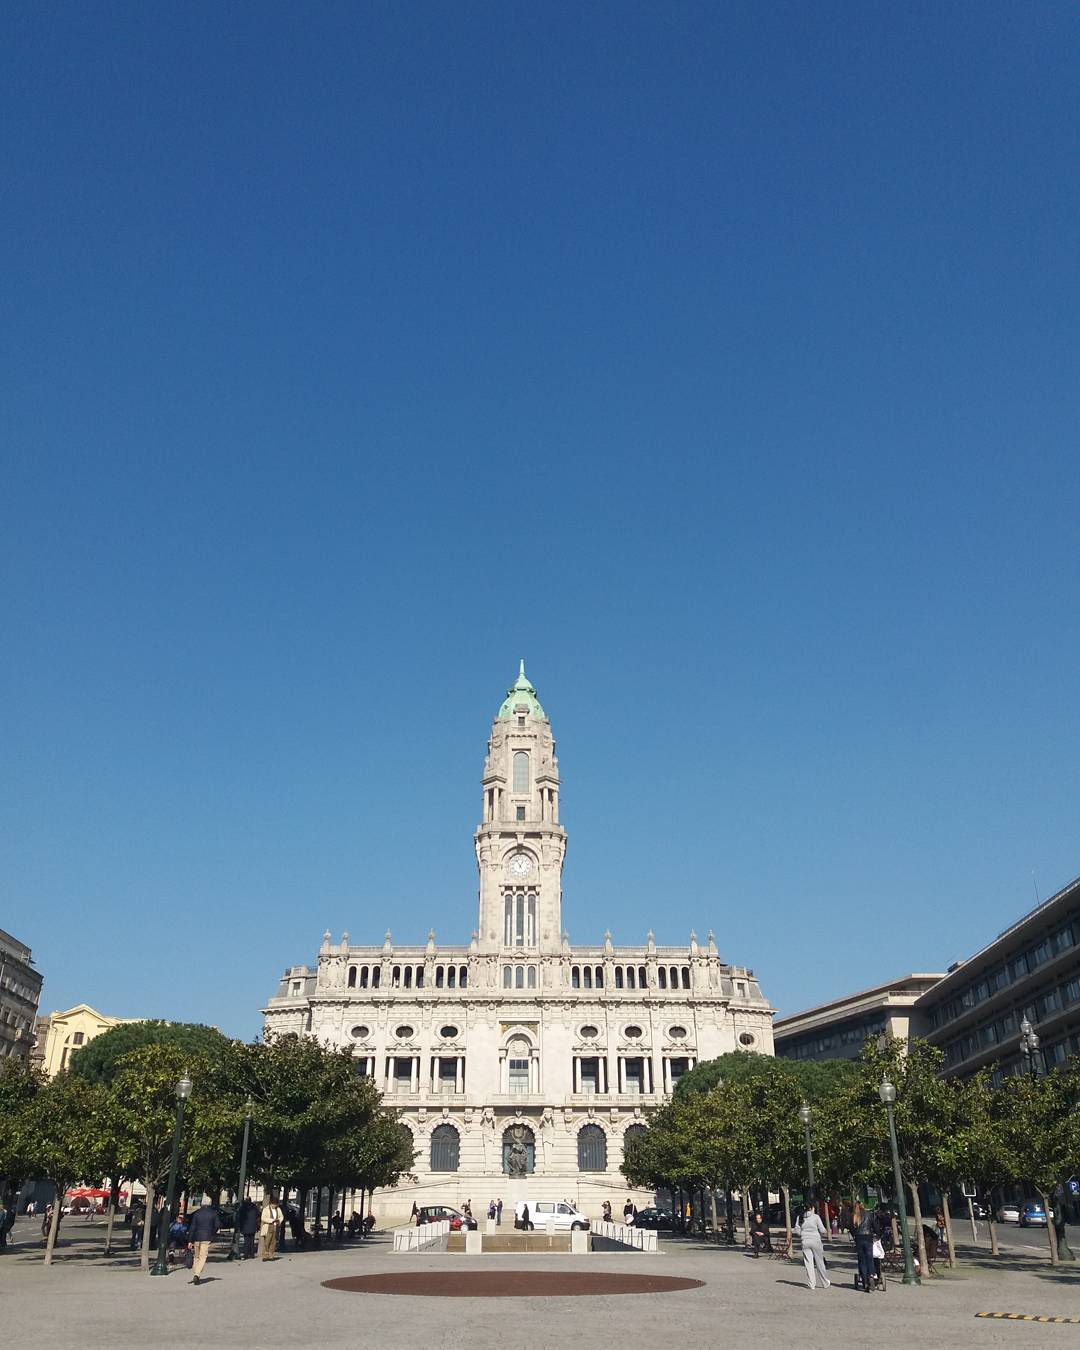camara: (259, 651, 778, 1180)
